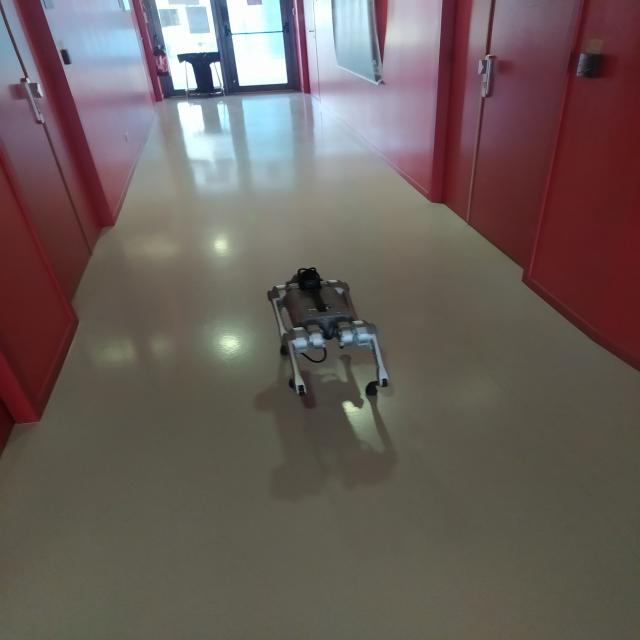unitree-go1-robot: (255, 255, 410, 419)
